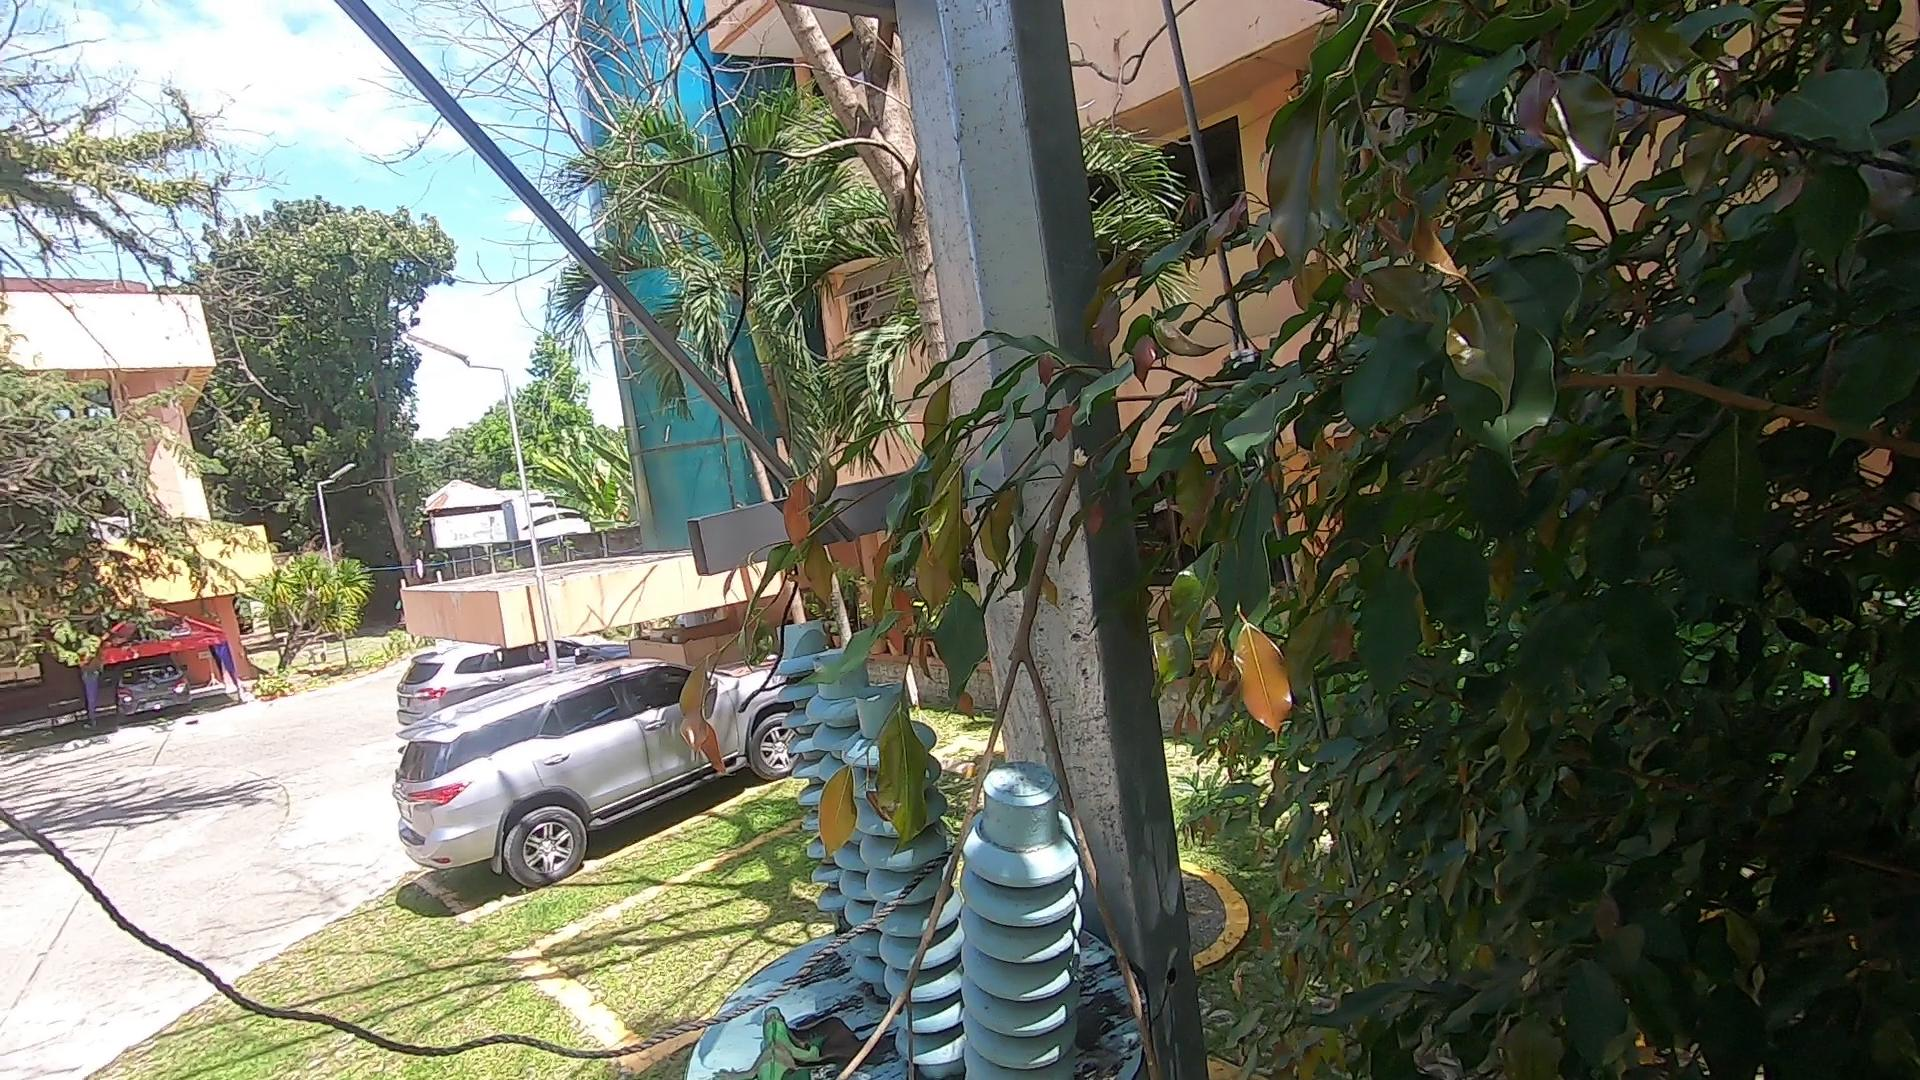leaf: (789, 1015, 858, 1073)
tree branch: (800, 423, 1183, 1080)
